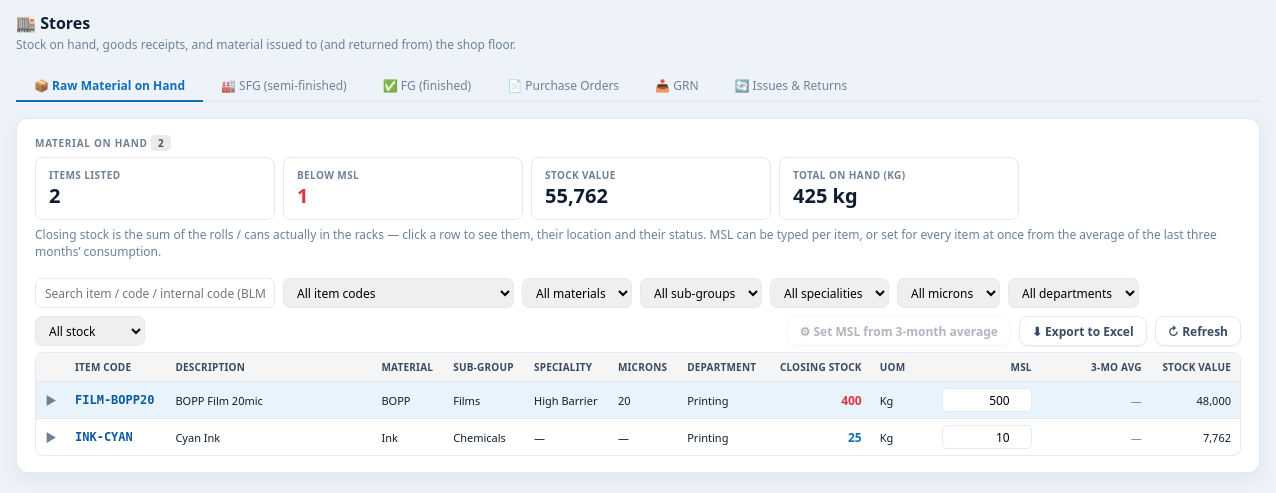
Scenario: Stores — purchase orders, GRN, issues and returns › lists only the POs still expected — "Open POs only" hides cancelled and closed ones (30.09 §S7a)
The width and height of the screenshot is (1276, 493).
Click the text "📄 Purchase Orders".
click(563, 86)  # box [507,77,619,94]
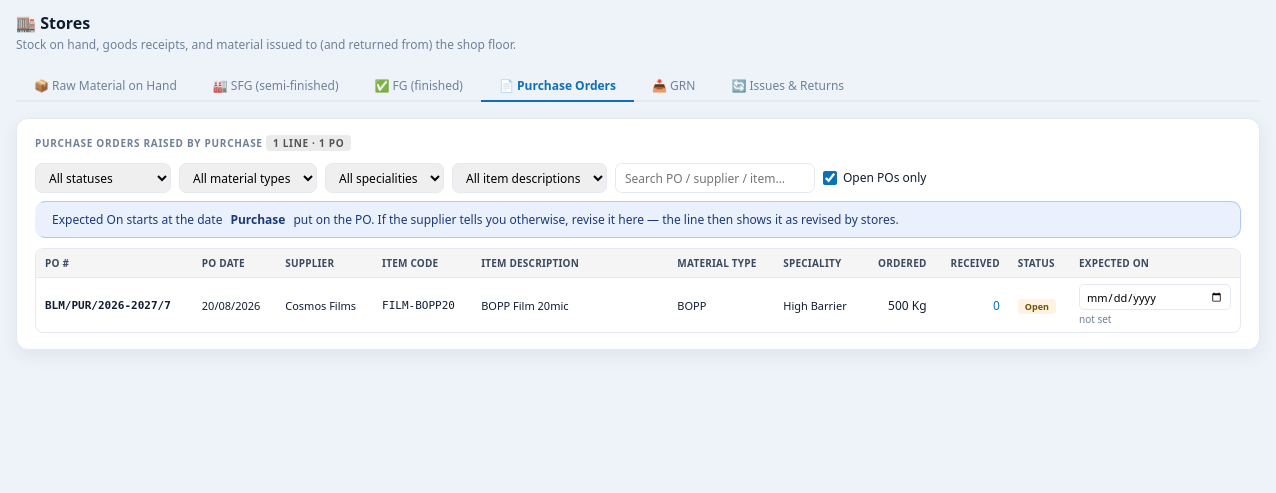
Expected: the text "BLM/PUR/2026-2027/8" is not shown
Expected: the date field named "Expected date for BOPP Film 20mic on BLM/PUR/2026-2027/7" is shown, [1079,284,1231,310]
unticking shows them all, each with its own status
Click the checkbox labelled "Open POs only".
click(830, 178)  # box [823,171,837,185]
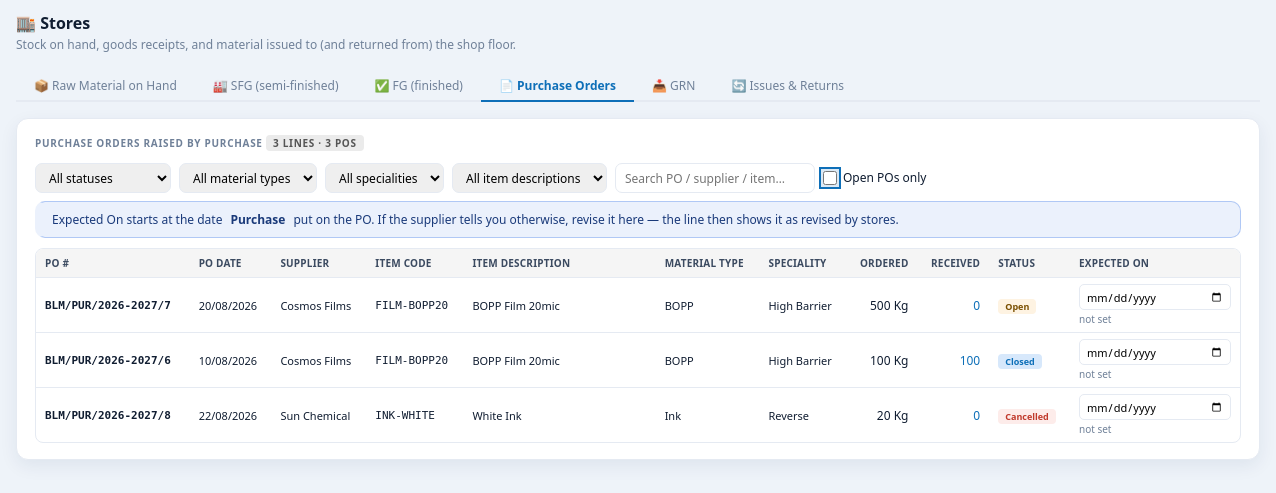
Expected: the text "Cancelled" is shown, [998,408,1056,424]
Expected: the text "Closed" is shown, [998,354,1042,368]
